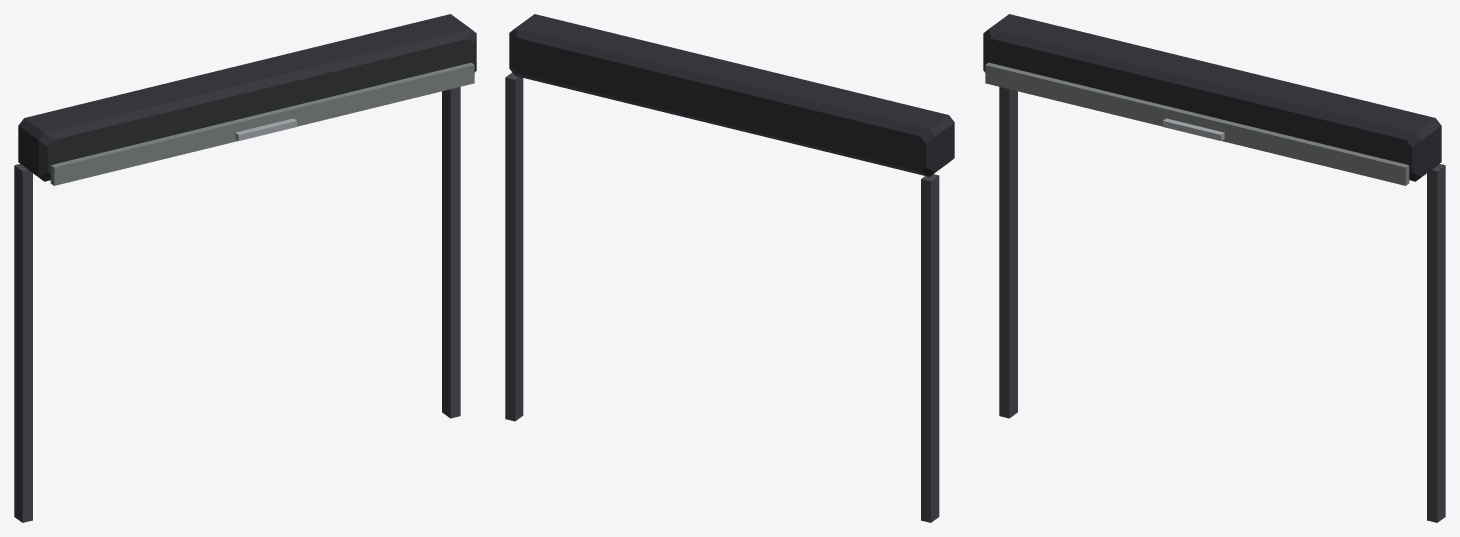
The model's file is SM_Bld_Roll_Shutter_01.glb.
3 views of the same model, side by side, from view 1: azimuth 30°, elevation 25°; view 2: azimuth 150°, elevation 25°; view 3: azimuth 330°, elevation 25° (orthographic). The views are drawn at different scales.
Parts seen in each view (by area): view 1: SM_Bld_Roll_Shutter_01; view 2: SM_Bld_Roll_Shutter_01; view 3: SM_Bld_Roll_Shutter_01.
Part boxes in pixels (x1=…): SM_Bld_Roll_Shutter_01: x1=14, y1=14, x2=476, y2=522; SM_Bld_Roll_Shutter_01: x1=505, y1=14, x2=954, y2=522; SM_Bld_Roll_Shutter_01: x1=983, y1=14, x2=1445, y2=522.
Size of the model in its own units: 3 by 2.62 by 0.41.
1 material, 1 textured.
